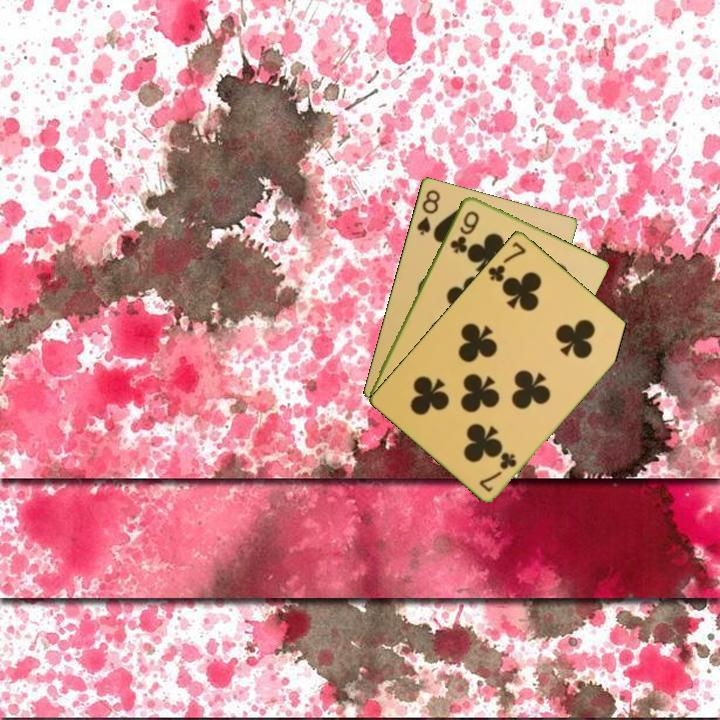7c: (484, 238, 529, 285), (475, 448, 520, 495)
8s: (413, 186, 443, 238)
9c: (446, 207, 482, 256)
